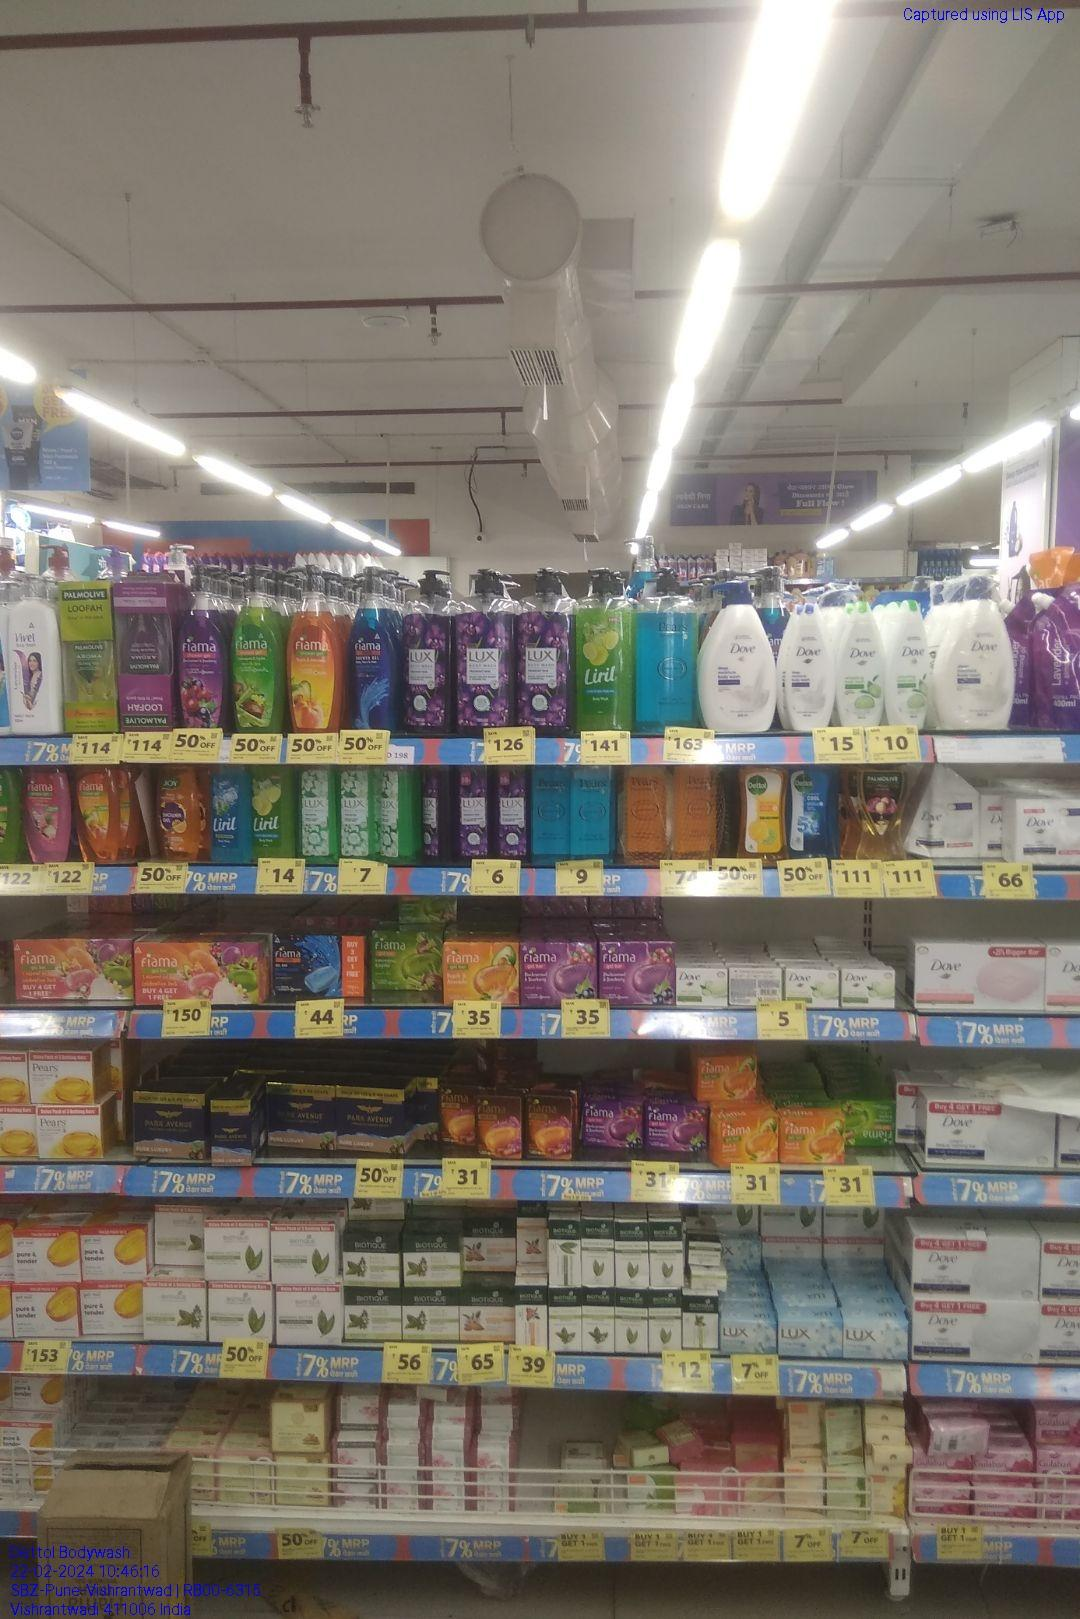Dettol_Bodywash_Cool: (788, 761, 835, 861)
Dettol_Bodywash_Refresh: (739, 767, 785, 861)
Dove_Deep_Moisture_Body_Wash_250ML: (783, 603, 837, 731)
Dove_Refreshing_Body_Wash_250ML: (840, 604, 881, 728), (887, 600, 927, 727)
Fiama_Shower_Gel_Patchouli_and_Macadamia_250ML: (20, 767, 69, 862)
Fiama_Shower_Gel_Peach_and_Avocado_250ML: (74, 765, 118, 860)
Joy_Shower_Gel_Mandarin_and_Lemongrass_250ML: (157, 765, 198, 861)
Liril_Cooling_Mint_Body_Wash_250ML: (207, 765, 251, 864)
Liril_Lime_and_Tea_Tree_Oil_Body_Wash_250ML: (256, 765, 297, 857)
Lux_Black_Orchid_Scent_and_Juniper_Oil_Body_Wash_245ML: (453, 768, 488, 860), (494, 765, 529, 857), (421, 763, 447, 861)
Lux_Body_Wash_Skin_Detox_Freesia_Scent_and_Alove_Vera_245ML: (301, 765, 337, 863), (378, 765, 415, 862), (341, 765, 375, 858)
Palmolive_Luminous_Oils_Invigorating_Macadamia_Oil_With_Peony_250ML: (858, 762, 908, 861)
Pears_Pure_Glycerin_and_Mint_Extracts_Body_Wash_250ML: (574, 767, 614, 860), (535, 768, 570, 857)
